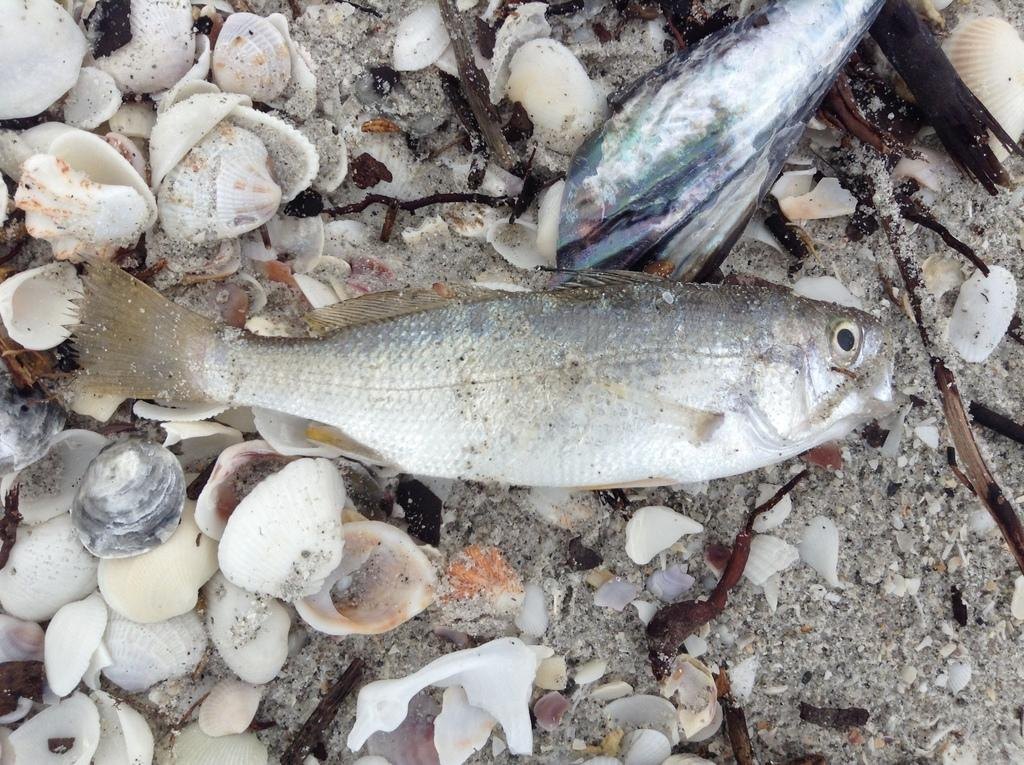Silver Perch: (71, 254, 910, 504)
